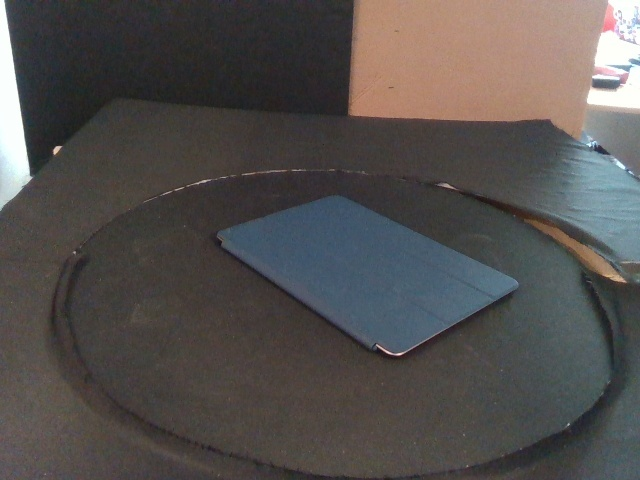laptop: (215, 194, 520, 360)
